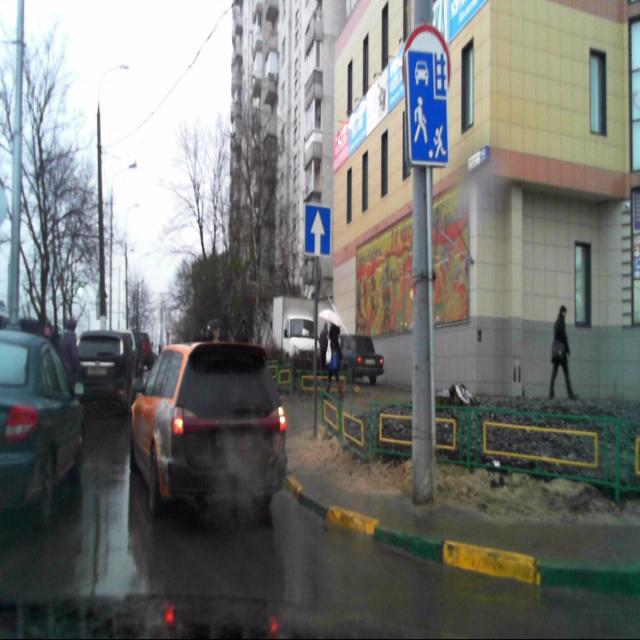object: (408, 50, 451, 168), (425, 162, 437, 502), (314, 256, 318, 441)
road sign: (304, 205, 332, 254)
